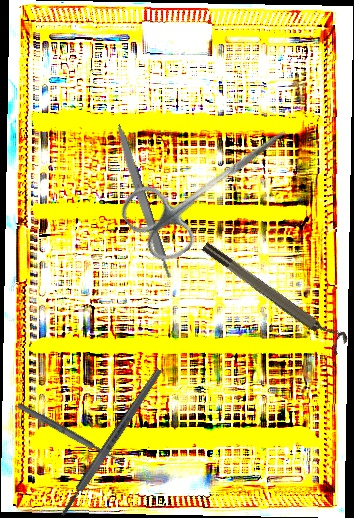Fixation Ring: (199, 233, 351, 356)
Iris Scissors: (114, 97, 307, 270)
Scalpel Handle: (57, 367, 165, 518), (112, 123, 173, 280)
Surgical Spoon: (16, 401, 126, 468)
